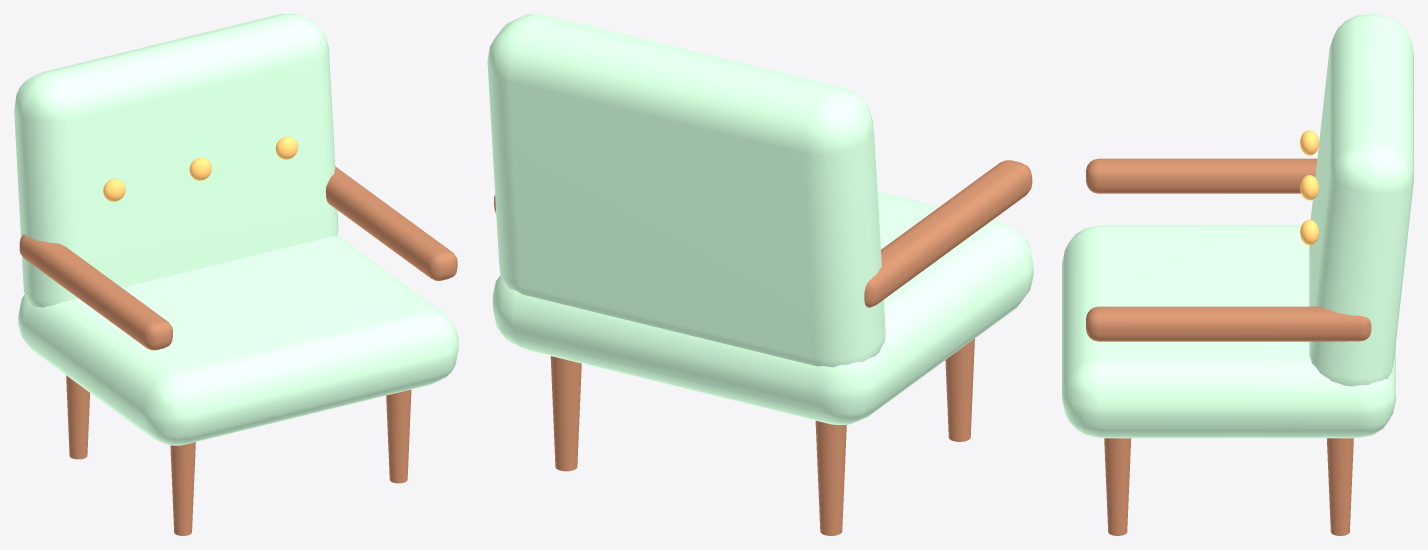
Rendered from sage_reader.glb.
3 renders of one model, left to right at view 1: azimuth 30°, elevation 25°; view 2: azimuth 150°, elevation 25°; view 3: azimuth 270°, elevation 25°, orthographic. The views are drawn at different scales.
Visible parts, largest first — view 1: sage_reader; view 2: sage_reader; view 3: sage_reader.
Part boxes in pixels (x1,y1,x2,y2): sage_reader: (14, 14, 458, 535); sage_reader: (487, 14, 1033, 535); sage_reader: (1062, 14, 1413, 535).
Size of the model in its own units: 0.725 by 0.8245 by 0.6639.
